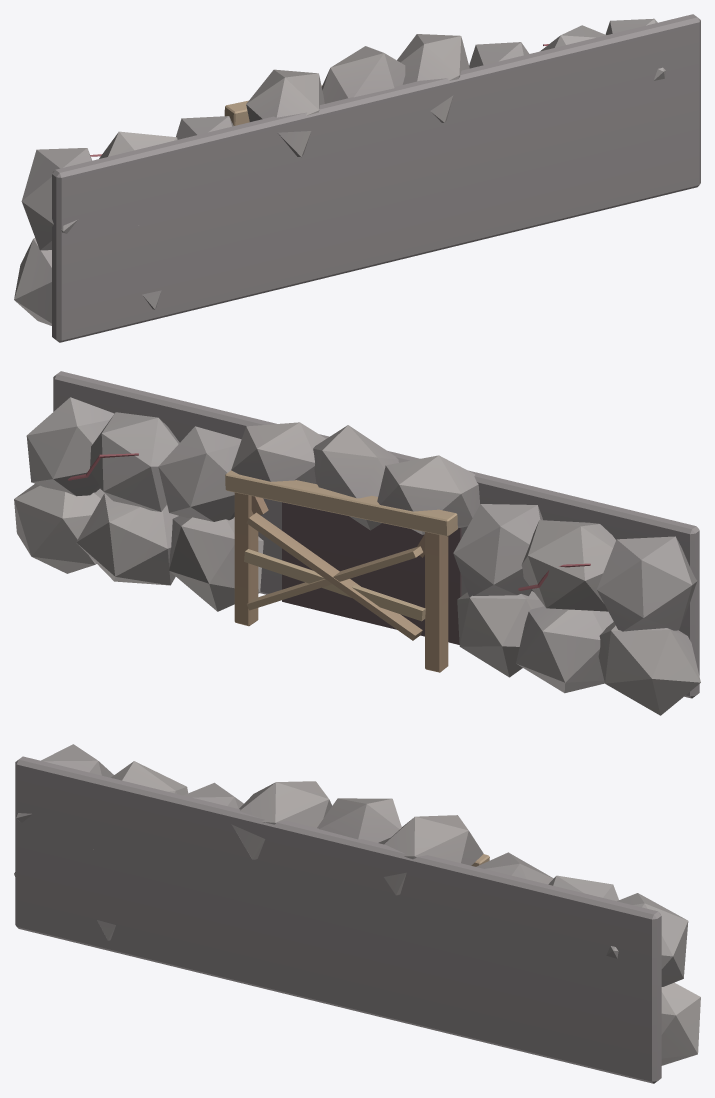
Rendered from BM_EntranceBoarded.glb.
3 renders of one model, top to bottom at view 1: azimuth 30°, elevation 25°; view 2: azimuth 150°, elevation 25°; view 3: azimuth 330°, elevation 25°, orthographic.
Visible parts, largest first — view 1: Body; view 2: Body; view 3: Body.
Boxes of the visible parts, x1,y1,x2,y2 form: Body: (14, 14, 700, 342); Body: (14, 371, 700, 715); Body: (14, 744, 700, 1083).
Size of the model in its own units: 57.36 by 16.7 by 7.48.
